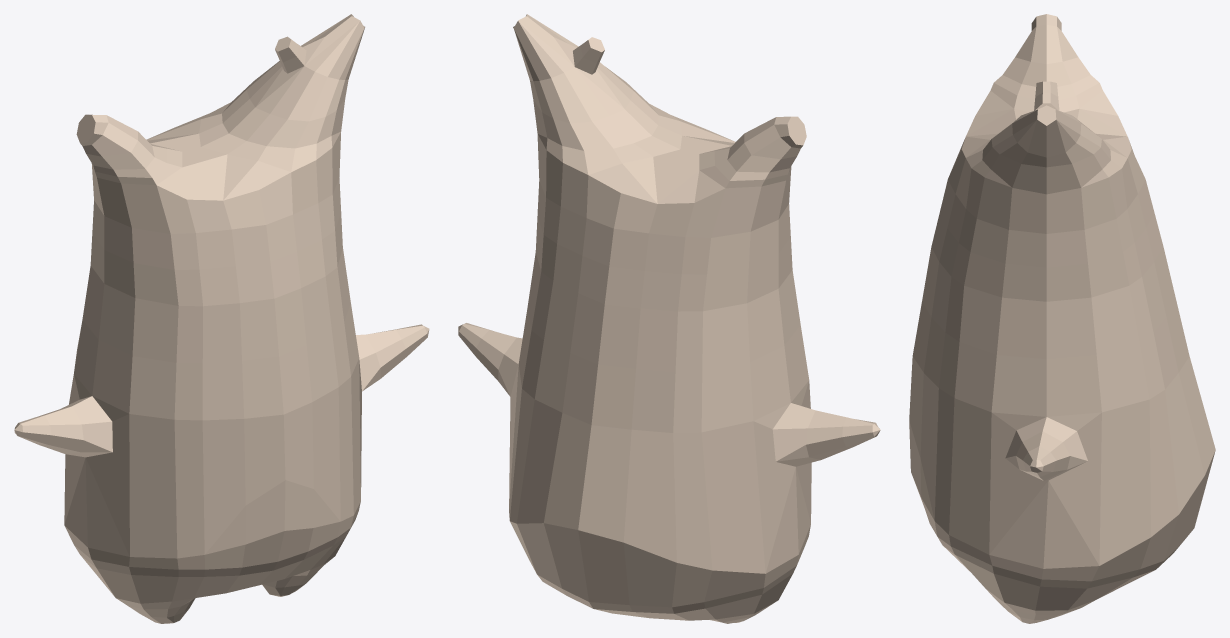
File: frame_0155.obj
The picture shows the model from 3 angles, left to right: view 1: azimuth 30°, elevation 25°; view 2: azimuth 150°, elevation 25°; view 3: azimuth 270°, elevation 25°; orthographic projection.
Visible parts, largest first — view 1: korok; view 2: korok; view 3: korok.
Part boxes in pixels (box(x1,y1,x2,y2)): korok: box(14, 14, 429, 623); korok: box(458, 14, 880, 623); korok: box(909, 14, 1215, 623).
Size of the model in its own units: 1.66 by 2.12 by 1.06.
